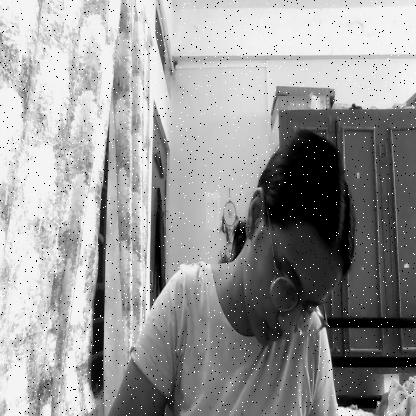Distracted: (246, 165, 331, 362)
